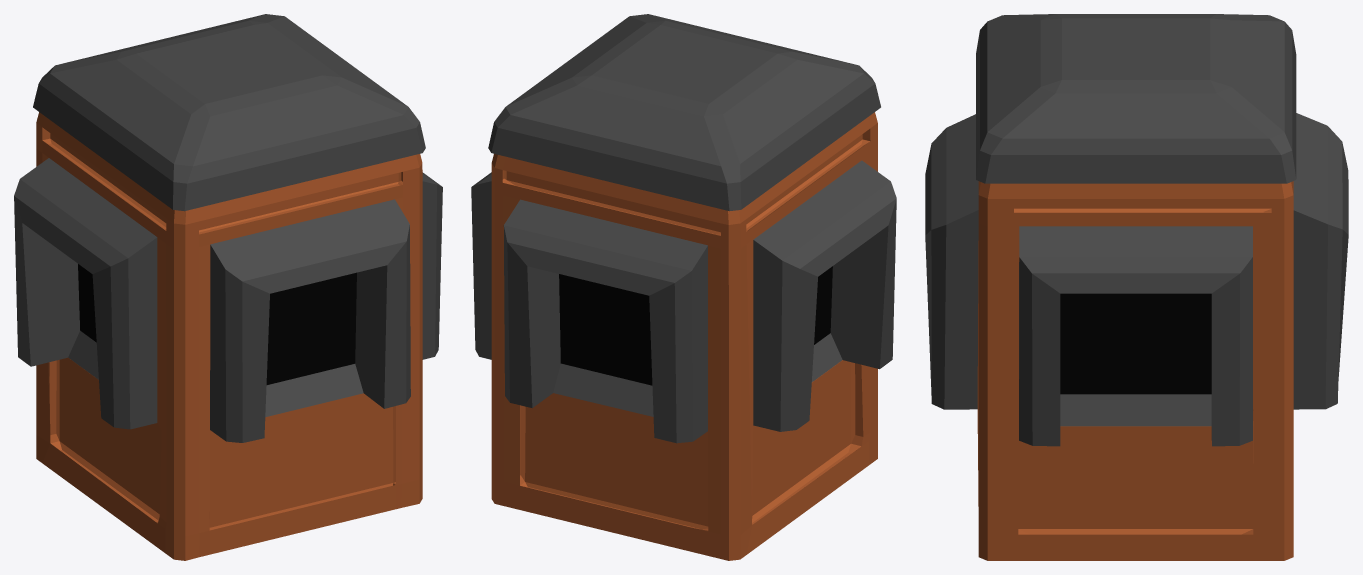
Rendered from Trap4Sides.fbx.
3 views of the same model, side by side, from view 1: azimuth 30°, elevation 25°; view 2: azimuth 150°, elevation 25°; view 3: azimuth 270°, elevation 25° (orthographic). The views are drawn at different scales.
Parts seen in each view (by area): view 1: Cube; view 2: Cube; view 3: Cube.
Boxes of the visible parts, <box> form: Cube: <box>14,14,442,560</box>; Cube: <box>471,14,896,560</box>; Cube: <box>925,14,1348,560</box>.
Bounding box in the file's own units: 300 × 349 × 300.
